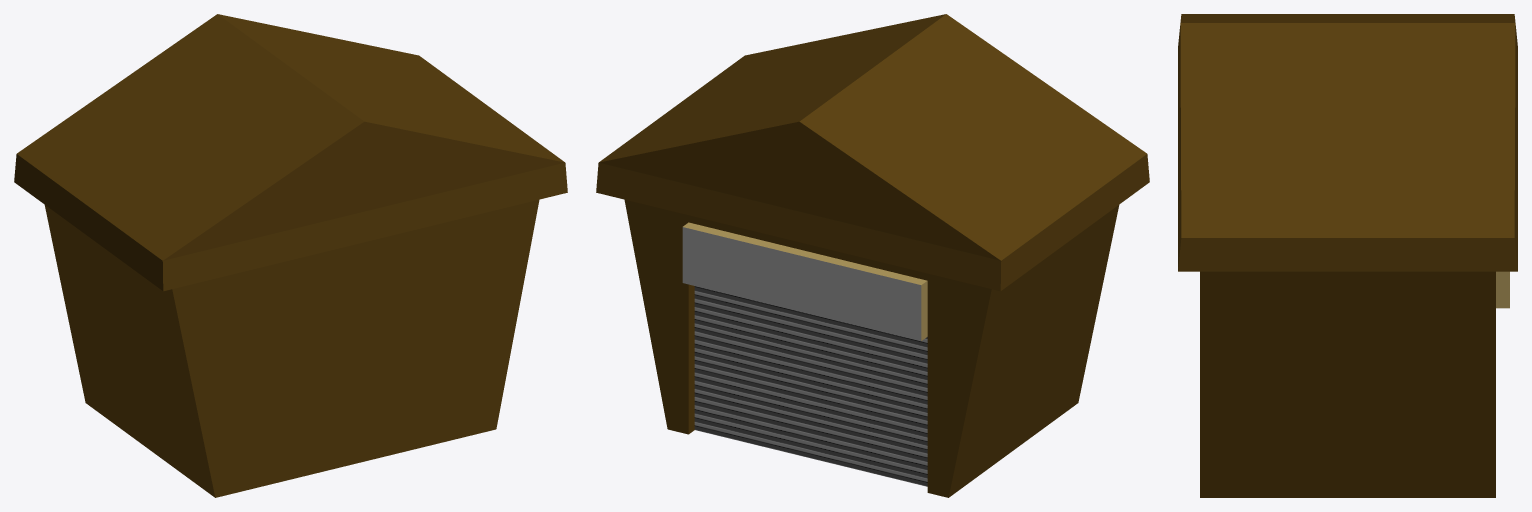
Rendered from VillageShopHouse.fbx.
3 renders of one model, left to right at view 1: azimuth 30°, elevation 25°; view 2: azimuth 150°, elevation 25°; view 3: azimuth 270°, elevation 25°, orthographic. The views are drawn at different scales.
Parts seen in each view (by area): view 1: VillageShopHouse; view 2: VillageShopHouse; view 3: VillageShopHouse.
Boxes of the visible parts, <box> form: VillageShopHouse: <box>14,14,567,497</box>; VillageShopHouse: <box>596,14,1149,497</box>; VillageShopHouse: <box>1178,14,1517,497</box>.
Bounding box in the file's own units: 46.71 × 29.83 × 38.43.
